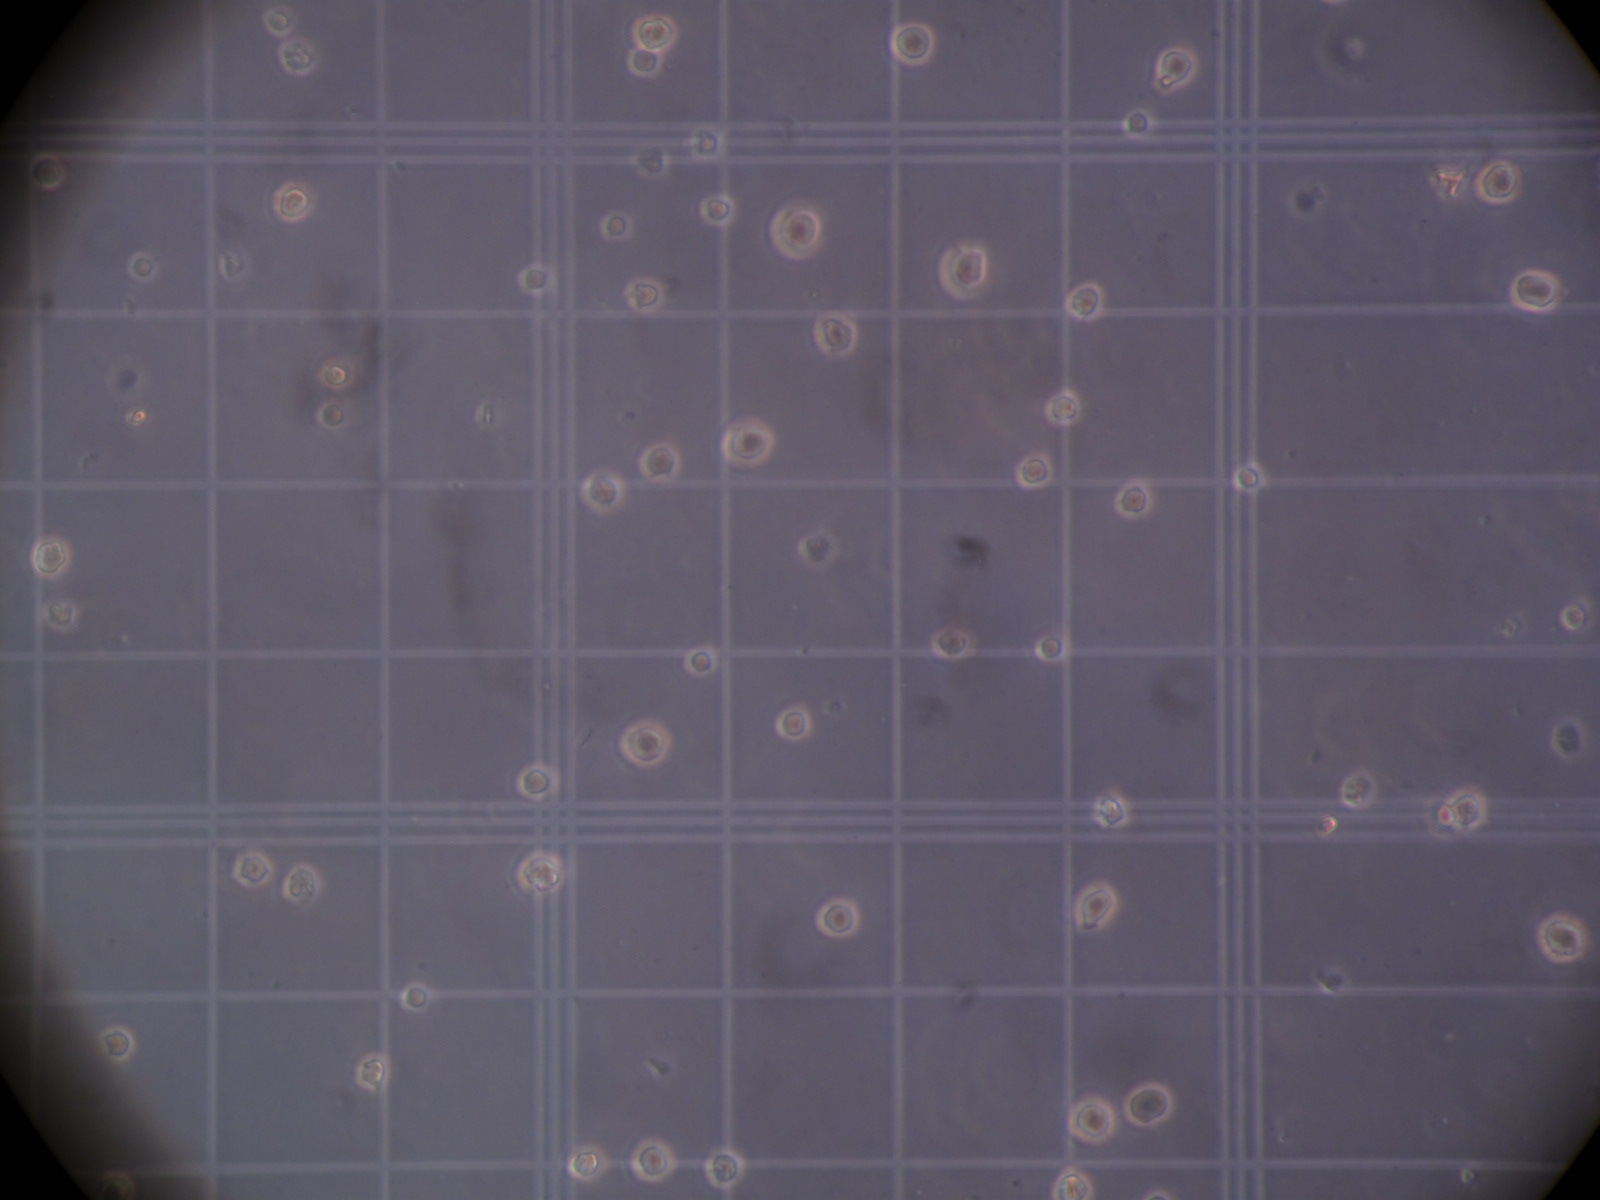hemo: (936, 239, 985, 301), (769, 208, 821, 261), (1536, 913, 1589, 964), (721, 417, 774, 466), (619, 720, 671, 769), (1067, 1093, 1112, 1145), (1511, 267, 1560, 313), (1123, 1083, 1172, 1128), (1473, 159, 1519, 204), (270, 182, 317, 224), (517, 852, 564, 895), (889, 23, 935, 67), (580, 471, 626, 514), (815, 896, 860, 939), (1076, 882, 1117, 926), (814, 313, 855, 357), (637, 441, 679, 484), (632, 1141, 678, 1180), (629, 15, 677, 52), (1448, 787, 1488, 829), (31, 534, 72, 576), (1157, 45, 1196, 87), (276, 38, 317, 77), (519, 761, 559, 800), (625, 276, 666, 314), (282, 863, 320, 905), (1015, 451, 1054, 490), (1114, 479, 1151, 519), (706, 1150, 746, 1187), (232, 851, 273, 887), (28, 153, 66, 192), (799, 531, 839, 567), (564, 1143, 605, 1180), (1551, 720, 1586, 761), (1342, 770, 1378, 809), (1049, 1168, 1094, 1200), (1044, 389, 1082, 426), (1094, 787, 1128, 827), (929, 626, 969, 661), (776, 705, 813, 741), (98, 1026, 135, 1063), (1066, 284, 1101, 321), (354, 1054, 388, 1092), (317, 358, 357, 389), (1558, 597, 1592, 633), (683, 644, 719, 677), (125, 250, 157, 285), (626, 45, 663, 77), (700, 193, 734, 226), (45, 596, 78, 630), (522, 262, 556, 292), (260, 6, 294, 37), (1233, 463, 1266, 493), (692, 129, 723, 159), (316, 400, 348, 429), (401, 979, 430, 1010), (600, 213, 632, 239), (1125, 108, 1153, 136), (1036, 637, 1066, 662)
